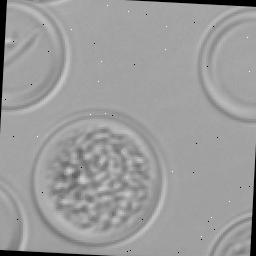picoshell: (31, 110, 168, 248), (3, 0, 72, 113), (199, 8, 256, 123), (0, 180, 29, 251), (207, 213, 252, 256), (14, 0, 68, 7)
